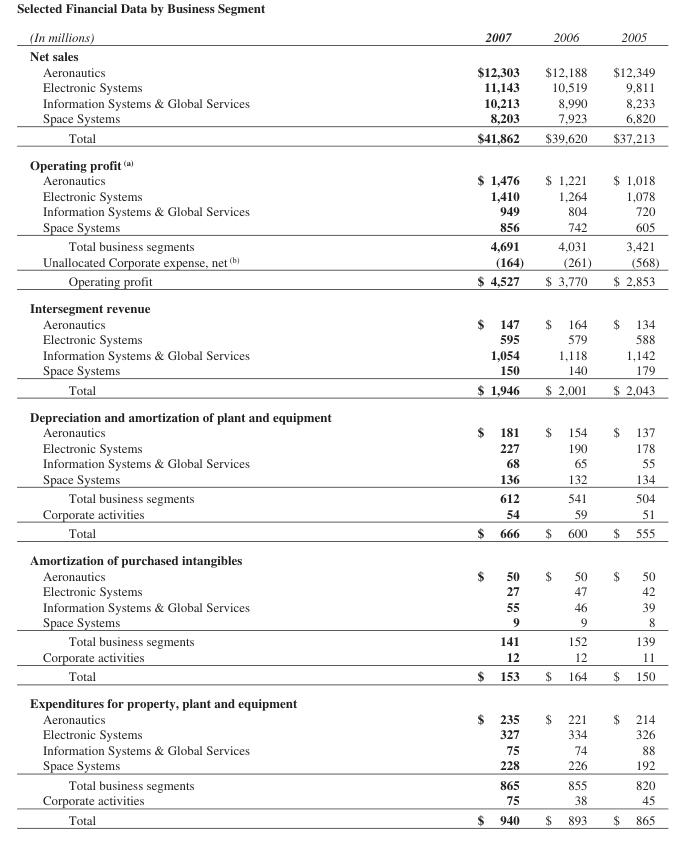table: (29, 28, 658, 826)
table column: (29, 28, 362, 826), (362, 28, 533, 826), (533, 28, 601, 826), (601, 28, 658, 826)
table column header: (29, 28, 658, 45)
table projected row header: (29, 293, 658, 315), (29, 545, 658, 567), (29, 150, 658, 171), (29, 402, 658, 423), (29, 689, 658, 710), (29, 45, 658, 63)
table row: (29, 127, 658, 150), (29, 270, 658, 293), (29, 379, 658, 402), (29, 522, 658, 545), (29, 666, 658, 689), (29, 293, 658, 315), (29, 545, 658, 567), (29, 150, 658, 171), (29, 402, 658, 423), (29, 689, 658, 710), (29, 45, 658, 63), (29, 109, 658, 127), (29, 235, 658, 253), (29, 361, 658, 379), (29, 487, 658, 505), (29, 613, 658, 631), (29, 648, 658, 666), (29, 774, 658, 792), (29, 28, 658, 45), (29, 218, 658, 235), (29, 253, 658, 270), (29, 470, 658, 487), (29, 505, 658, 522), (29, 631, 658, 648), (29, 757, 658, 774), (29, 792, 658, 809), (29, 809, 658, 826), (29, 78, 658, 94), (29, 171, 658, 187), (29, 202, 658, 218), (29, 330, 658, 346), (29, 423, 658, 439), (29, 454, 658, 470), (29, 582, 658, 598), (29, 710, 658, 726), (29, 741, 658, 757), (29, 63, 658, 78), (29, 94, 658, 109), (29, 187, 658, 202), (29, 315, 658, 330), (29, 346, 658, 361), (29, 439, 658, 454), (29, 567, 658, 582), (29, 598, 658, 613), (29, 726, 658, 741)
